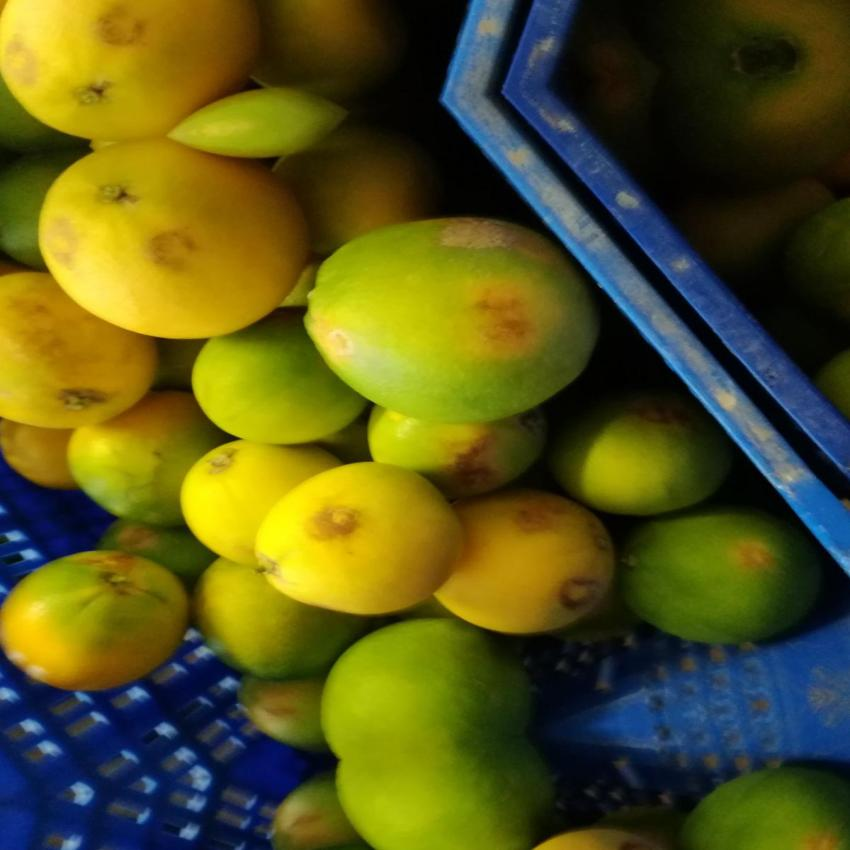Mal estado: (301, 217, 606, 429), (34, 149, 328, 352), (240, 459, 469, 620), (0, 0, 268, 131), (431, 486, 622, 629), (0, 265, 160, 430), (177, 446, 356, 576)
